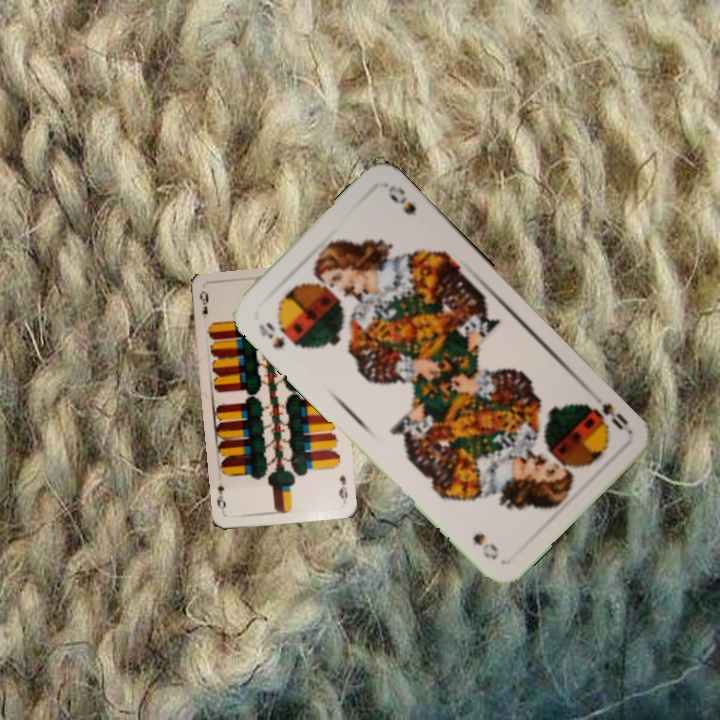E9: (195, 287, 211, 321), (335, 471, 350, 503)
SO: (581, 398, 633, 435), (254, 318, 300, 351)
